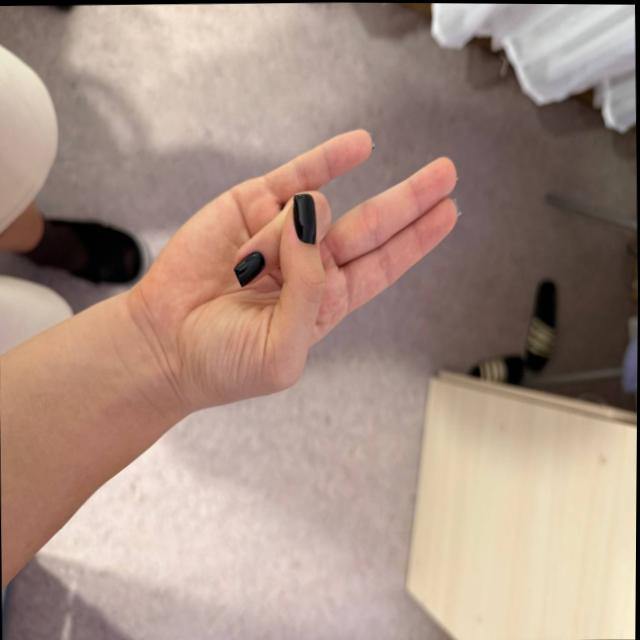n: (164, 52, 490, 448)
